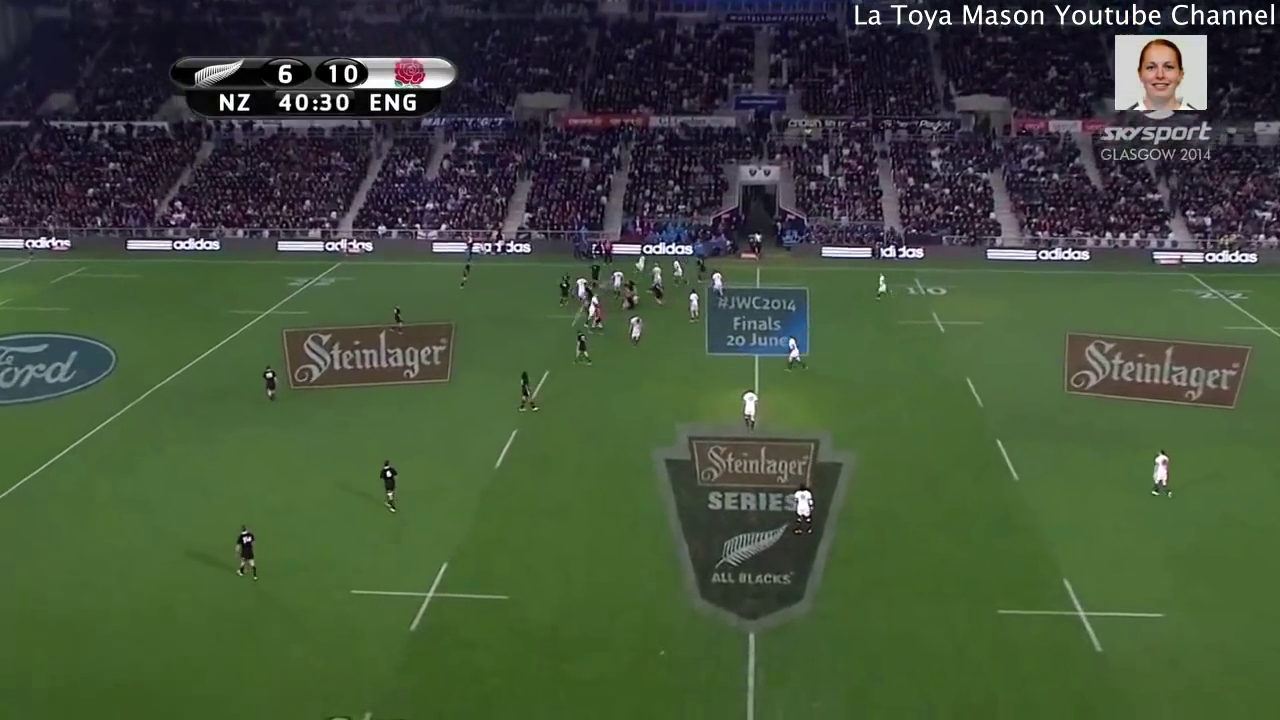10_metre: (989, 571, 1182, 656), (342, 558, 517, 636), (893, 308, 990, 337), (880, 274, 963, 301)
player: (229, 518, 265, 588), (784, 479, 821, 541), (1142, 444, 1179, 504), (778, 328, 819, 382), (376, 455, 402, 518), (738, 380, 764, 438), (513, 368, 544, 415), (257, 360, 282, 409), (569, 327, 596, 370), (705, 265, 733, 300), (643, 276, 669, 311), (625, 311, 648, 350), (871, 268, 894, 303), (667, 255, 689, 291), (582, 291, 601, 330), (386, 303, 407, 336), (554, 272, 572, 310), (684, 286, 702, 323), (457, 257, 474, 294), (606, 266, 625, 297), (630, 250, 648, 277), (585, 260, 601, 289), (574, 273, 588, 305), (696, 252, 709, 284), (647, 259, 664, 283), (621, 275, 639, 293), (622, 290, 637, 310), (580, 285, 593, 307)
